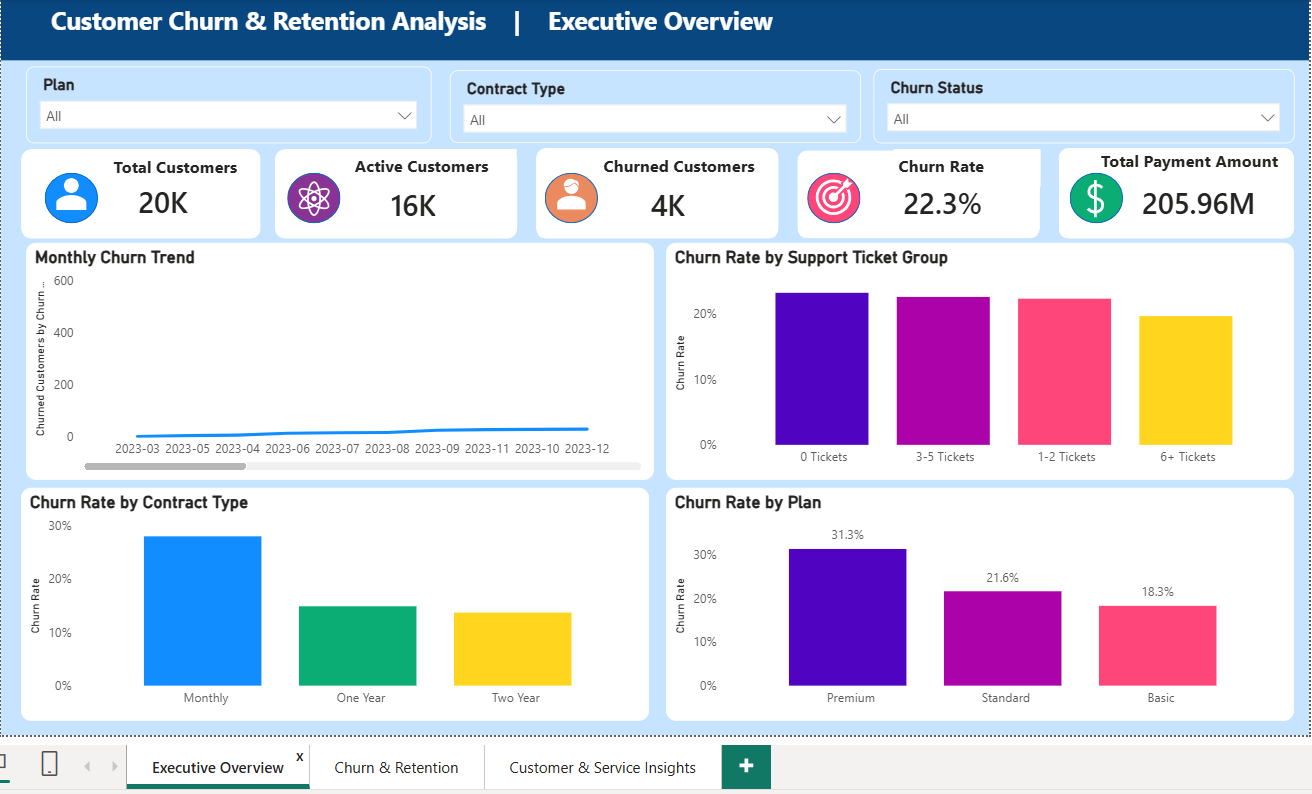

The dashboard page shown, as its layout file describes it:
{"tool":"powerbi","page":{"name":"Executive Overview","canvas":[1280,720],"ordinal":0},"visuals":[{"type":"shape","box":[1034.7,145.5,230.5,89.2],"z":0},{"type":"shape","box":[779.4,148.2,237.4,86.4],"z":1000},{"type":"shape","box":[522.8,145.5,237.4,89.2],"z":2000},{"type":"shape","box":[267.6,146.8,237.4,87.8],"z":3000},{"type":"shape","box":[19.2,146.8,234.6,87.8],"z":4000},{"type":"textbox","box":[0,0,1280.3,60.4],"z":5000},{"type":"cardVisual","fields":{"Data":["customers.Total Customers"]},"box":[105.7,161.9,127.6,71.4],"z":6000},{"type":"lineChart","title":"Monthly Churn Trend","fields":{"Category":["Churn Date.Year Month"],"Y":["subscriptions.Churned Customers by Churn Date"]},"box":[24.7,238.8,614.8,231.9],"z":7000},{"type":"clusteredColumnChart","title":"Churn Rate by Plan","fields":{"Category":["subscriptions.plan"],"Y":["subscriptions.Churn Rate"]},"box":[650.4,477.5,614.8,227.8],"z":8000},{"type":"clusteredColumnChart","title":"Churn Rate by Contract Type","fields":{"Category":["subscriptions.contract_type"],"Y":["subscriptions.Churn Rate"]},"box":[19.2,477.5,614.8,227.8],"z":9000},{"type":"clusteredColumnChart","title":"Churn Rate by Support Ticket Group","fields":{"Category":["customers.Ticket Group"],"Y":["subscriptions.Churn Rate"]},"box":[650.4,238.8,614.8,231.9],"z":10000},{"type":"slicer","fields":{"Values":["subscriptions.plan"]},"box":[24.7,65.9,396.6,75.5],"z":11000},{"type":"slicer","fields":{"Values":["subscriptions.contract_type"]},"box":[439.1,70,402.1,71.4],"z":12000},{"type":"slicer","fields":{"Values":["subscriptions.churn_status"]},"box":[853.5,68.6,411.7,72.7],"z":13000},{"type":"textbox","box":[105.7,148.2,148.2,57.6],"z":14000},{"type":"cardVisual","fields":{"Data":["subscriptions.Active Customers"]},"box":[352.7,170.2,107,60.4],"z":15000},{"type":"textbox","box":[584.6,146.8,185.2,48],"z":16000},{"type":"textbox","box":[341.7,146.8,163.3,37],"z":17000},{"type":"cardVisual","fields":{"Data":["subscriptions.Churned Customers"]},"box":[606.5,168.8,107,63.1],"z":18000},{"type":"cardVisual","fields":{"Data":["subscriptions.Churn Rate"]},"box":[853.5,166,140,63.1],"z":19000},{"type":"textbox","box":[872.7,146.8,144.1,37],"z":20000},{"type":"cardVisual","fields":{"Data":["payments.Total Payment Amount"]},"box":[1087.1,166.3,178.5,63.6],"z":21000},{"type":"shape","box":[1045.6,170.2,52.1,49.4],"z":22000},{"type":"textbox","box":[1071.7,141.3,193.5,45.3],"z":23000},{"type":"shape","box":[789,170.2,52.1,49.4],"z":24000},{"type":"shape","box":[532.4,170.2,52.1,49.4],"z":25000},{"type":"shape","box":[279.9,170.2,52.1,49.4],"z":26000},{"type":"shape","box":[42.5,170.2,52.1,49.4],"z":27000},{"type":"image","box":[42.5,168.8,52.1,43.9],"z":27001},{"type":"image","box":[275.8,174.3,60.4,41.2],"z":27002},{"type":"image","box":[496.7,171.5,123.5,41.2],"z":27003},{"type":"image","box":[790.4,171.5,50.8,43.9],"z":27004},{"type":"image","box":[1036,174.3,70,41.2],"z":27005}]}

Visuals, with their boxes on the page's 1280x720 design canvas (x1, y1, x2, y2). These are canvas units, not pixel positions in the 1312x794 screenshot, which may show the page scaled, cropped or inside an application window:
shape: BBox(1035, 146, 1265, 235)
shape: BBox(779, 148, 1017, 235)
shape: BBox(523, 146, 760, 235)
shape: BBox(268, 147, 505, 235)
shape: BBox(19, 147, 254, 235)
textbox: BBox(0, 0, 1280, 60)
cardVisual - customers.Total Customers: BBox(106, 162, 233, 233)
"Monthly Churn Trend" lineChart: BBox(25, 239, 640, 471)
"Churn Rate by Plan" clusteredColumnChart: BBox(650, 478, 1265, 705)
"Churn Rate by Contract Type" clusteredColumnChart: BBox(19, 478, 634, 705)
"Churn Rate by Support Ticket Group" clusteredColumnChart: BBox(650, 239, 1265, 471)
slicer - subscriptions.plan: BBox(25, 66, 421, 141)
slicer - subscriptions.contract_type: BBox(439, 70, 841, 141)
slicer - subscriptions.churn_status: BBox(854, 69, 1265, 141)
textbox: BBox(106, 148, 254, 206)
cardVisual - subscriptions.Active Customers: BBox(353, 170, 460, 231)
textbox: BBox(585, 147, 770, 195)
textbox: BBox(342, 147, 505, 184)
cardVisual - subscriptions.Churned Customers: BBox(606, 169, 714, 232)
cardVisual - subscriptions.Churn Rate: BBox(854, 166, 994, 229)
textbox: BBox(873, 147, 1017, 184)
cardVisual - payments.Total Payment Amount: BBox(1087, 166, 1266, 230)
shape: BBox(1046, 170, 1098, 220)
textbox: BBox(1072, 141, 1265, 187)
shape: BBox(789, 170, 841, 220)
shape: BBox(532, 170, 584, 220)
shape: BBox(280, 170, 332, 220)
shape: BBox(42, 170, 95, 220)
image: BBox(42, 169, 95, 213)
image: BBox(276, 174, 336, 216)
image: BBox(497, 172, 620, 213)
image: BBox(790, 172, 841, 215)
image: BBox(1036, 174, 1106, 216)
